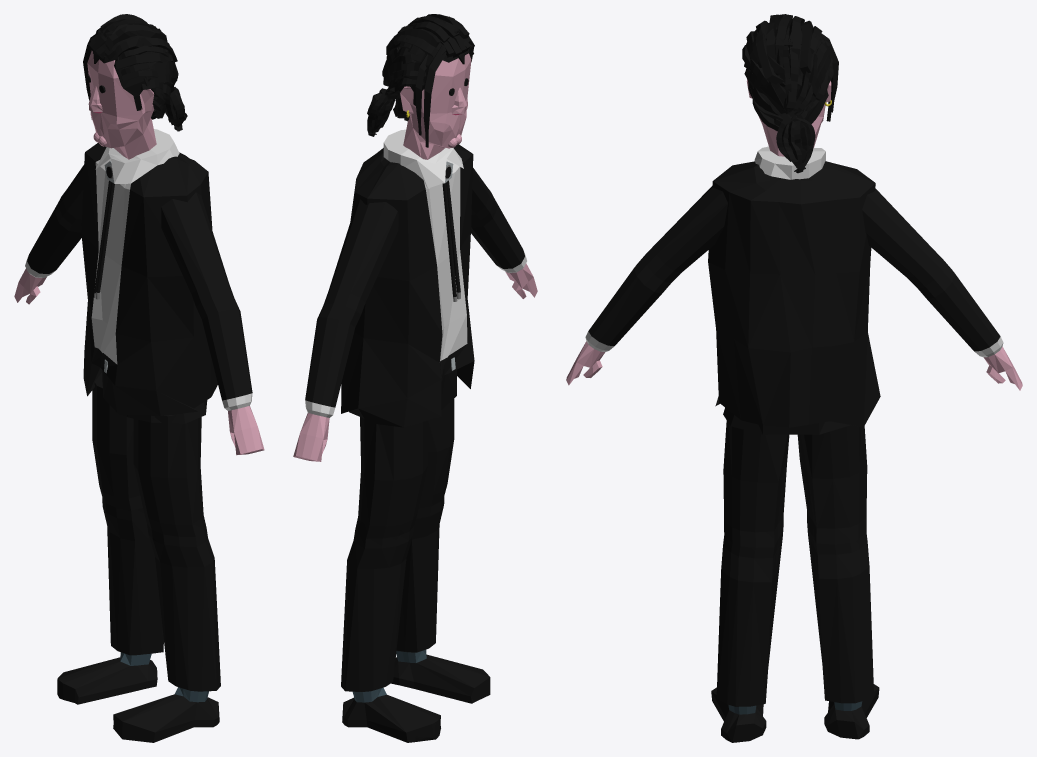
The picture shows the model from 3 angles, left to right: view 1: azimuth 30°, elevation 25°; view 2: azimuth 150°, elevation 25°; view 3: azimuth 270°, elevation 25°; orthographic projection.
Parts seen in each view (by area): view 1: node_MeshObject-1467139072-PolyPaper23; view 2: node_MeshObject-1467139072-PolyPaper23; view 3: node_MeshObject-1467139072-PolyPaper23.
Boxes of the visible parts, x1,y1,x2,y2 form: node_MeshObject-1467139072-PolyPaper23: (14, 14, 264, 742); node_MeshObject-1467139072-PolyPaper23: (293, 14, 537, 742); node_MeshObject-1467139072-PolyPaper23: (566, 14, 1022, 742).
Bounding box in the file's own units: 0.3529 × 1.91 × 1.14.
